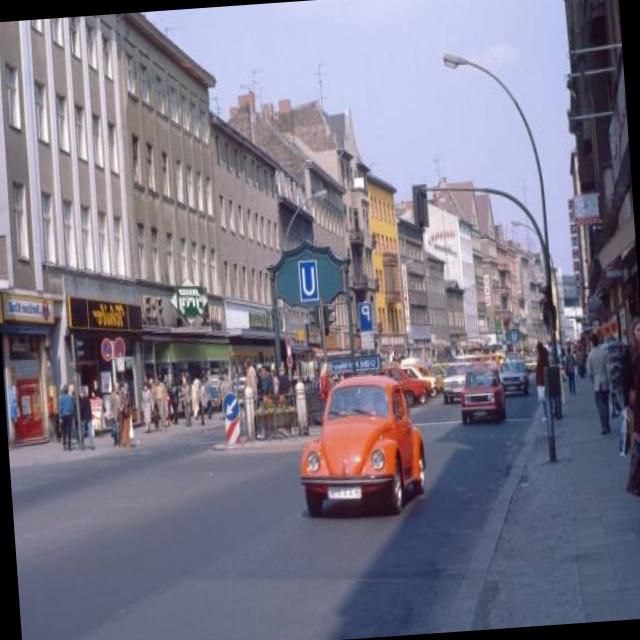car: (290, 368, 430, 519), (456, 364, 509, 416)
